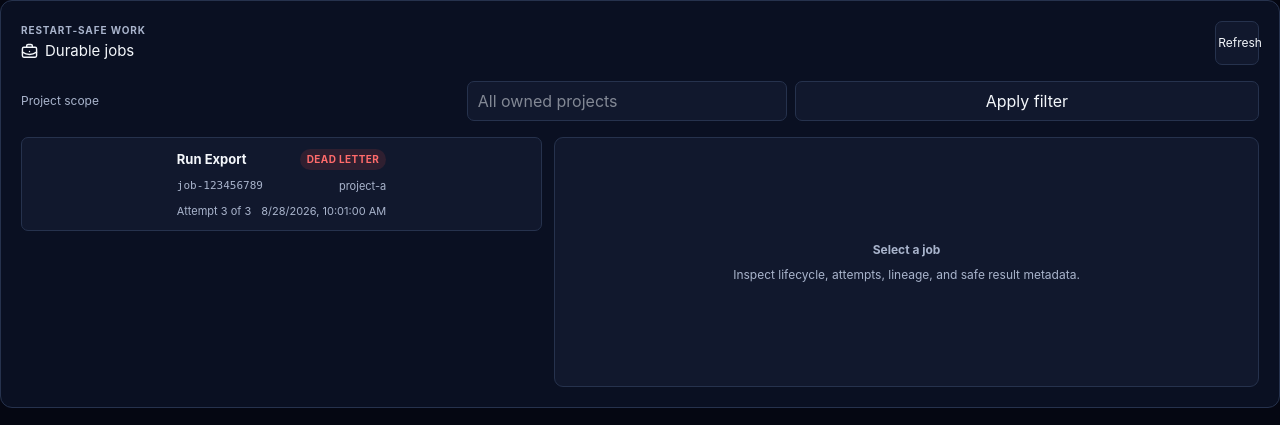
it: JobInspector › invalidates pending detail when the project filter changes
Click the button with aria-label "Inspect run_export job" at (212, 159), box [21,137,542,231]
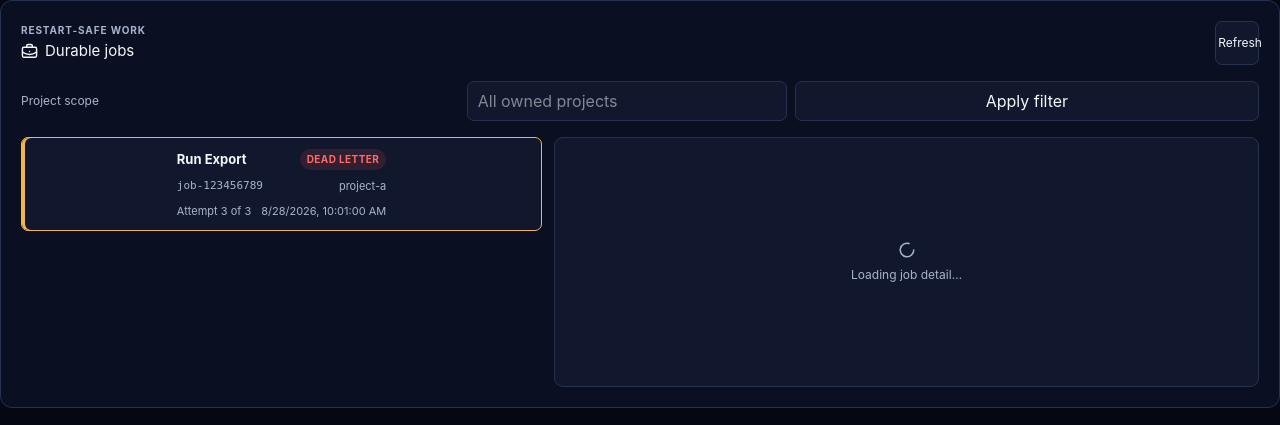
Type "project-b" into the field labelled "Project scope" at (627, 101), box [467,81,787,121]
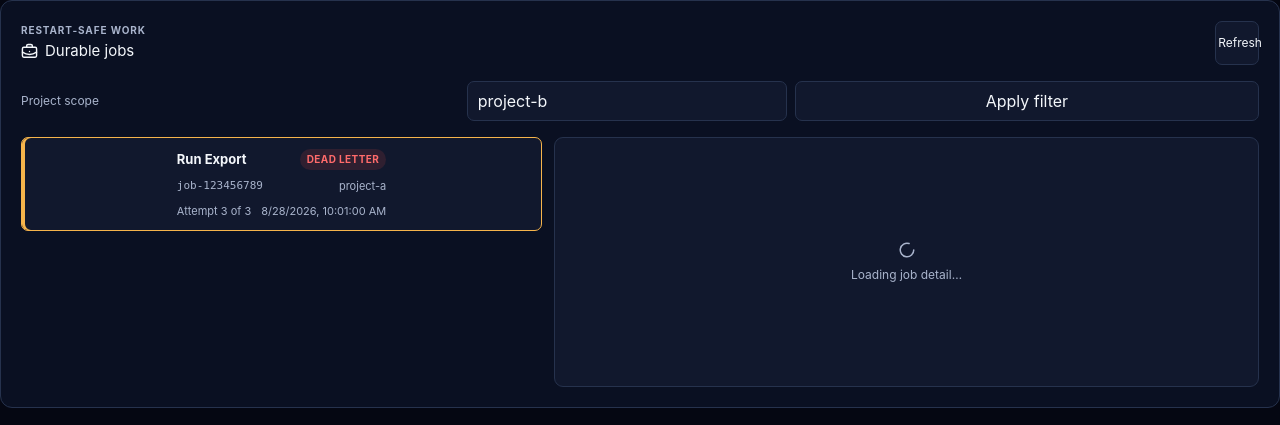
Click the button "Apply filter" at (1027, 101), box [795,81,1259,121]
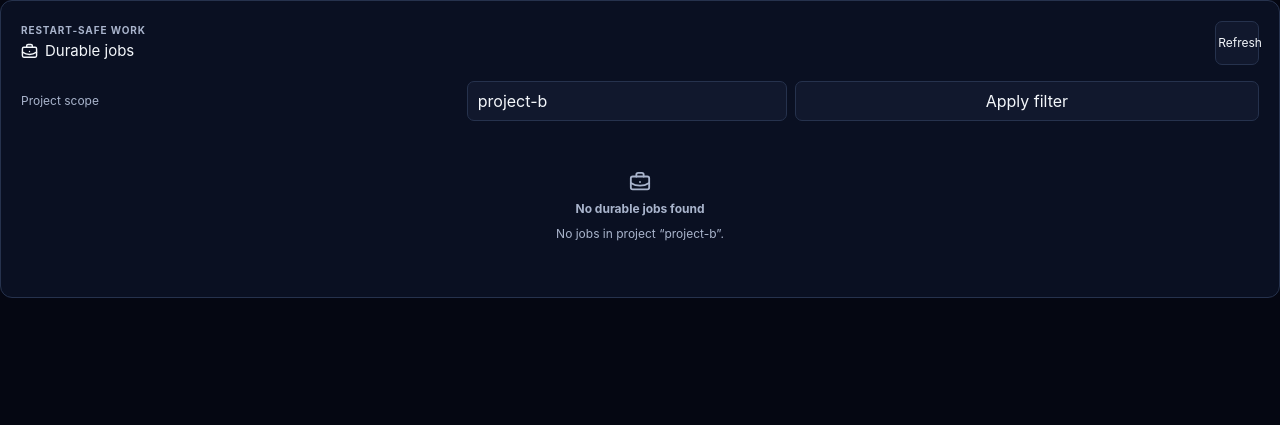
Now the text "No durable jobs found" is shown, box [576,200,704,218]
